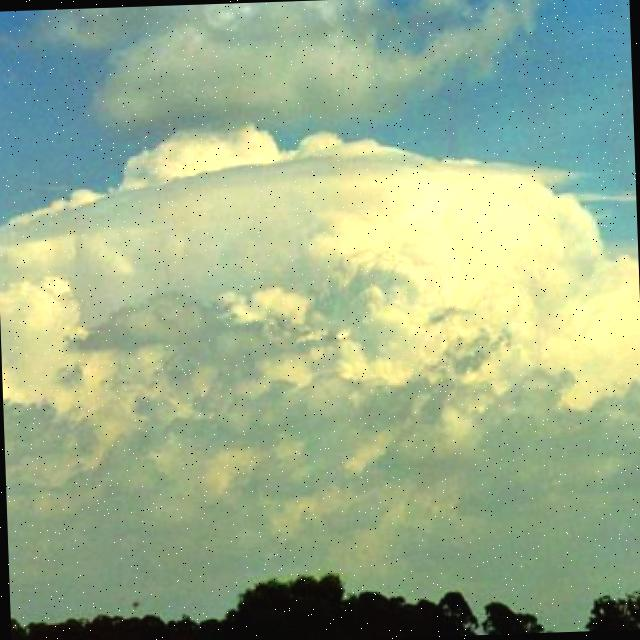Cb: (1, 60, 640, 570)
